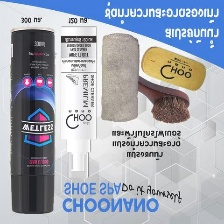aerosol_cans: (7, 23, 58, 217)
cleaning_solution: (57, 23, 99, 179)
